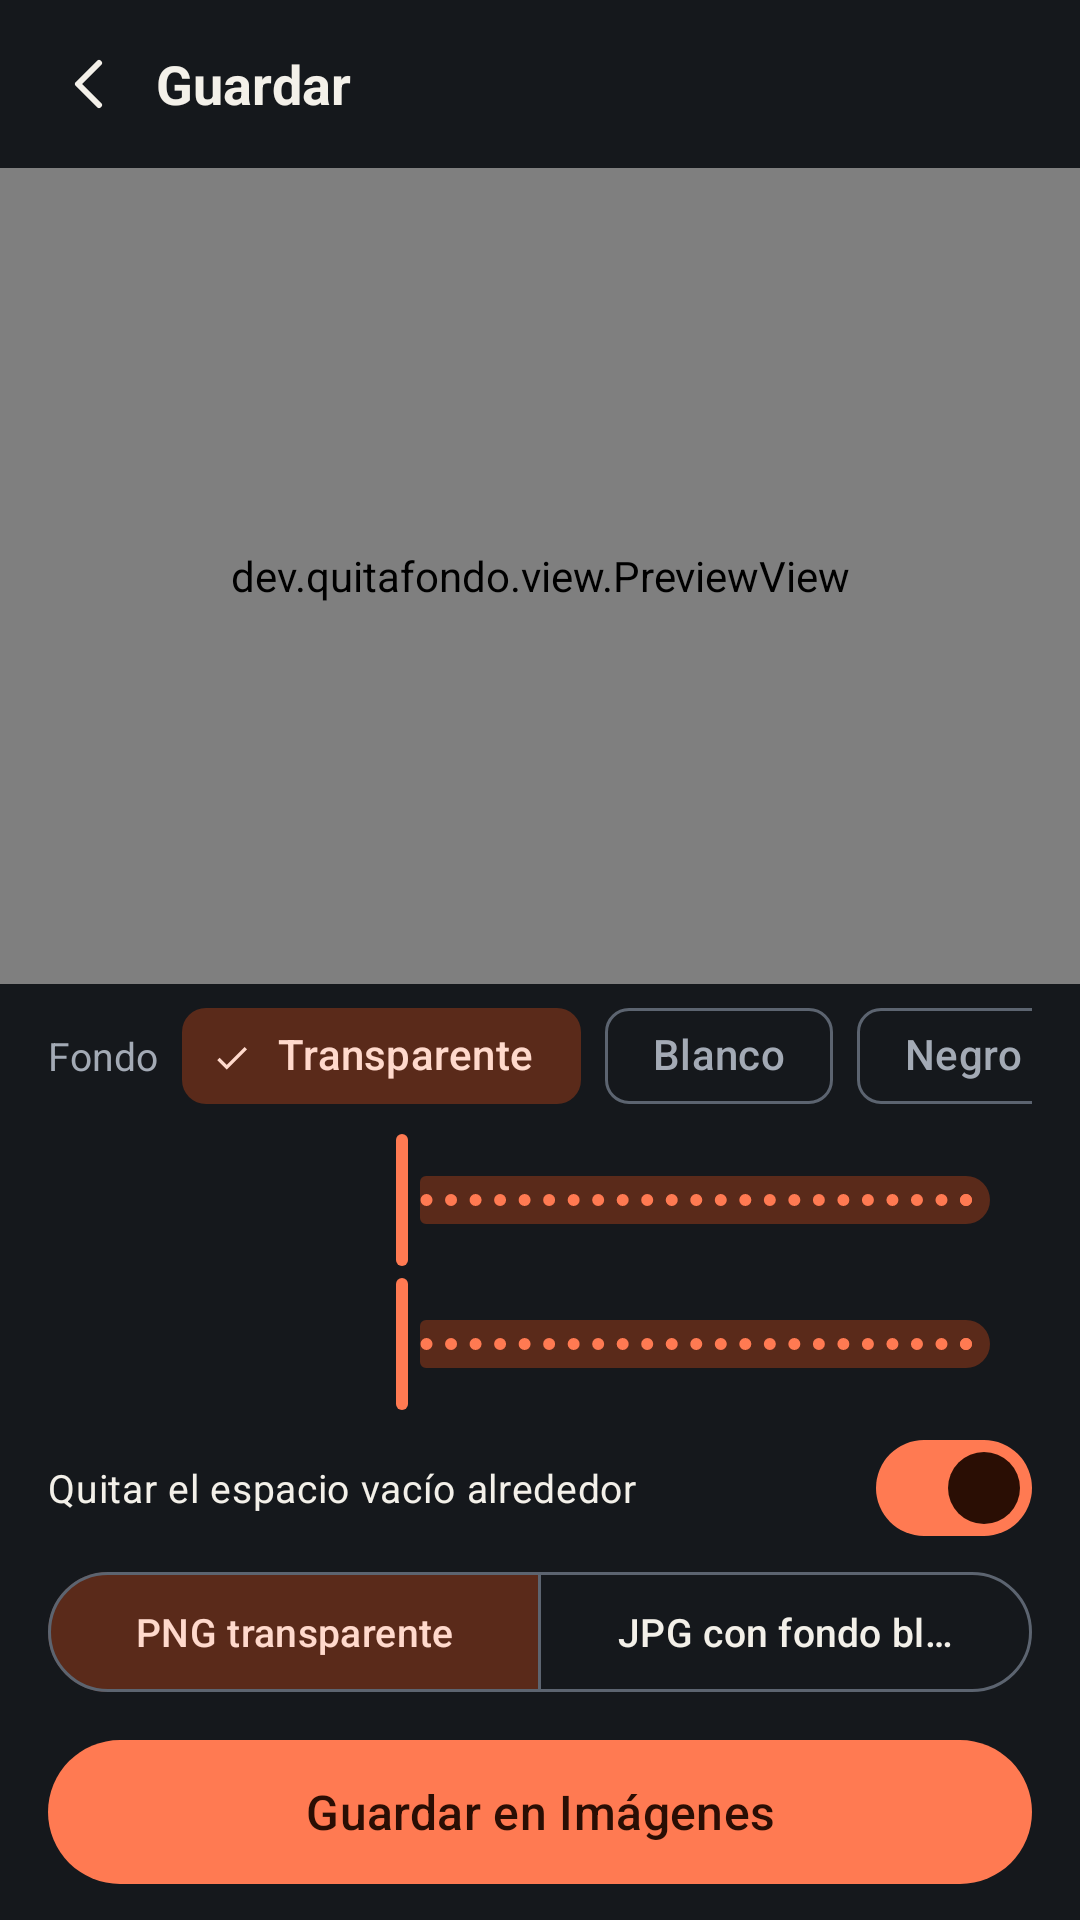

Point at icon controls on the screen. Image size 1080w x 1920h, points as point (x, y).
Atrás: point (88, 84)
